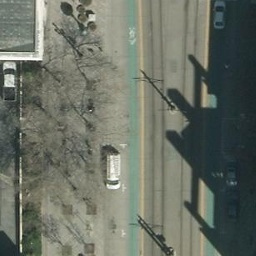car: (101, 153, 123, 191), (3, 62, 22, 100), (222, 156, 242, 189), (222, 191, 242, 224), (209, 1, 230, 31)
